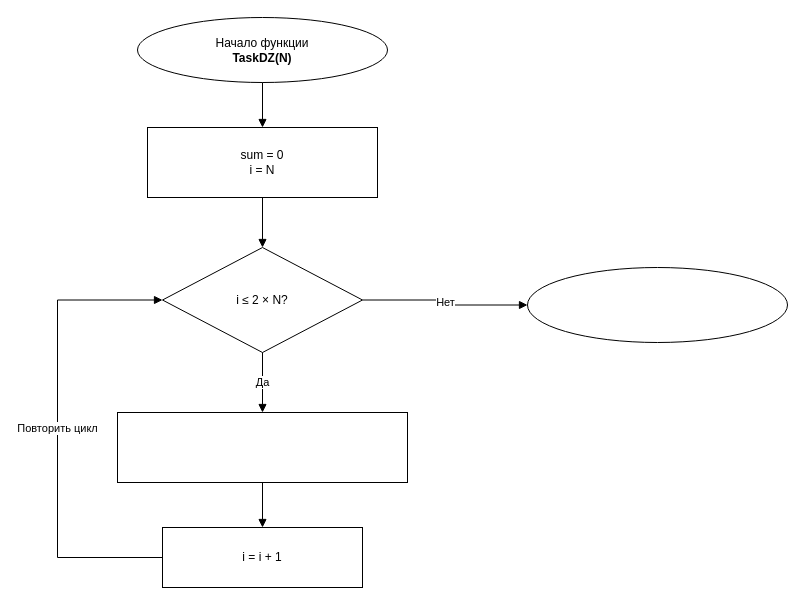
This 805x605 diagram has some shape labels left out. The shapes that lost their labels are listed below. From the top down, each one's box as (x1, y1, x2, y2) in pixels, then its label:
(526, 266, 788, 342): Вернуть sum в место вызова функции
(116, 412, 408, 482): sum = sum + (long long)i × i
